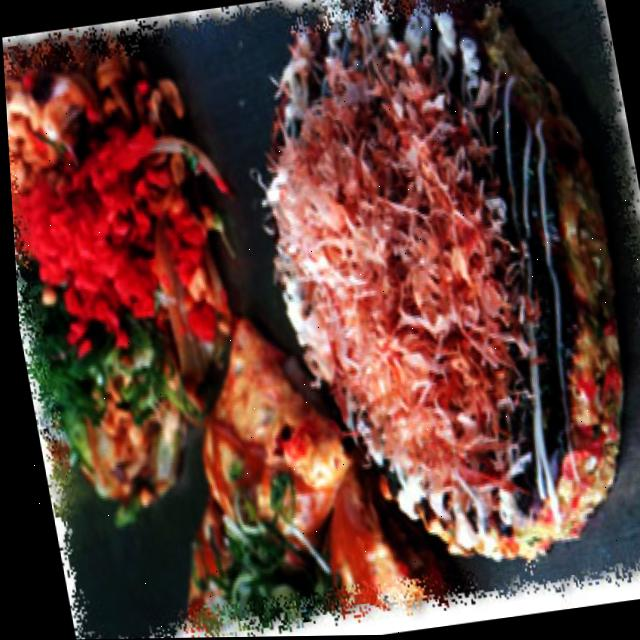蛋糕甜品: (208, 9, 640, 582)
